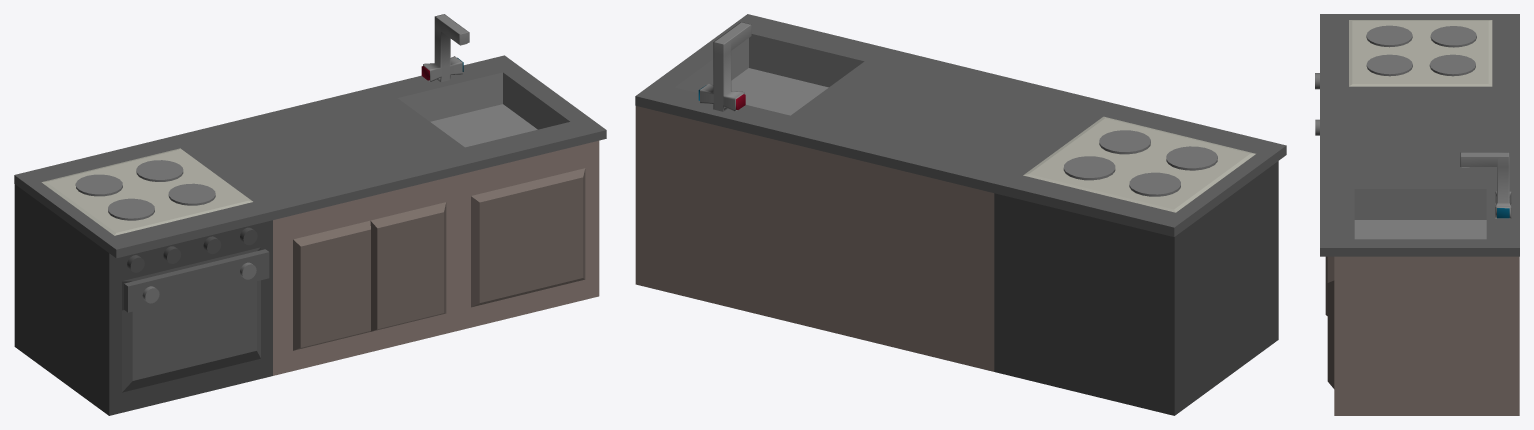
File: Sem_Keuken_Color.fbx
3 renders of one model, left to right at view 1: azimuth 30°, elevation 25°; view 2: azimuth 150°, elevation 25°; view 3: azimuth 270°, elevation 25°, orthographic. The views are drawn at different scales.
Visible parts, largest first — view 1: pasted__group18_pasted__pasted__pCylinder15; view 2: pasted__group18_pasted__pasted__pCylinder15; view 3: pasted__group18_pasted__pasted__pCylinder15.
Part boxes in pixels (x1=…): pasted__group18_pasted__pasted__pCylinder15: x1=14, y1=14, x2=606, y2=415; pasted__group18_pasted__pasted__pCylinder15: x1=635, y1=14, x2=1286, y2=415; pasted__group18_pasted__pasted__pCylinder15: x1=1315, y1=14, x2=1519, y2=415.
Size of the model in its own units: 11.85 by 5.37 by 4.38.
